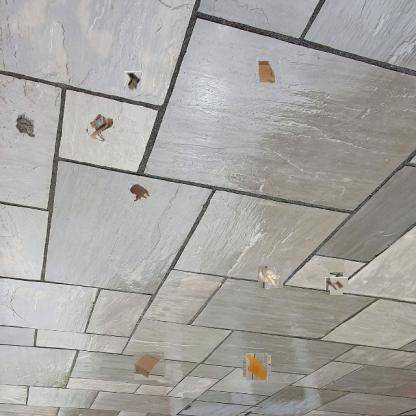dirty: (134, 352, 164, 380), (86, 115, 114, 142), (12, 111, 36, 139), (255, 59, 279, 83), (258, 266, 282, 290), (327, 274, 346, 293), (124, 71, 141, 92)
liquid: (245, 354, 269, 379), (128, 182, 150, 202)
